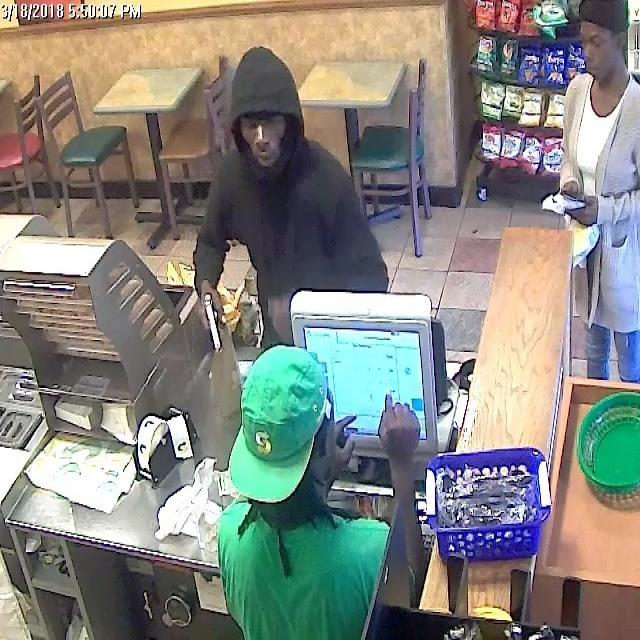weapon: (194, 290, 234, 358)
